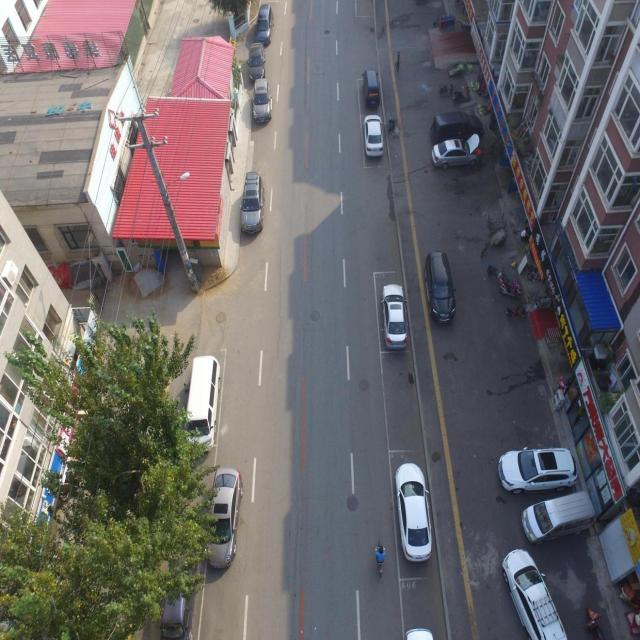p3rson: (374, 544, 386, 563), (394, 50, 401, 72), (520, 226, 528, 241)
